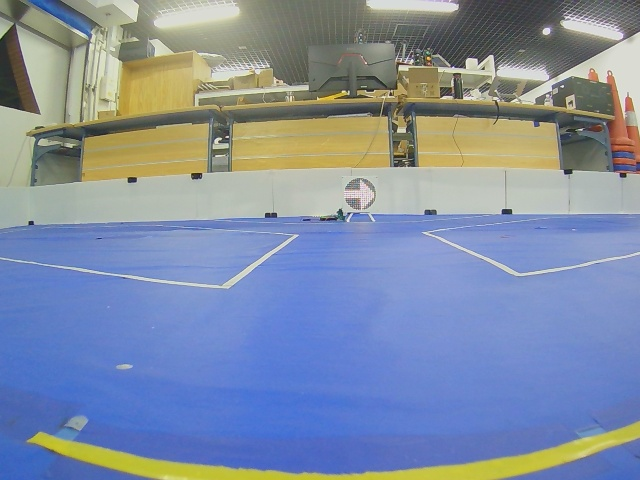right_yellow: (344, 178, 376, 210)
